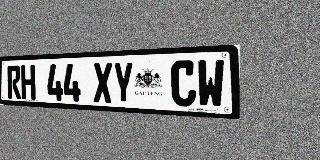4: (63, 63, 81, 102), (47, 64, 63, 101)
C: (171, 60, 196, 107)
H: (21, 65, 36, 100)
R: (7, 65, 21, 99)
W: (197, 59, 225, 108)
X: (93, 62, 113, 103)
Y: (113, 62, 134, 104)
